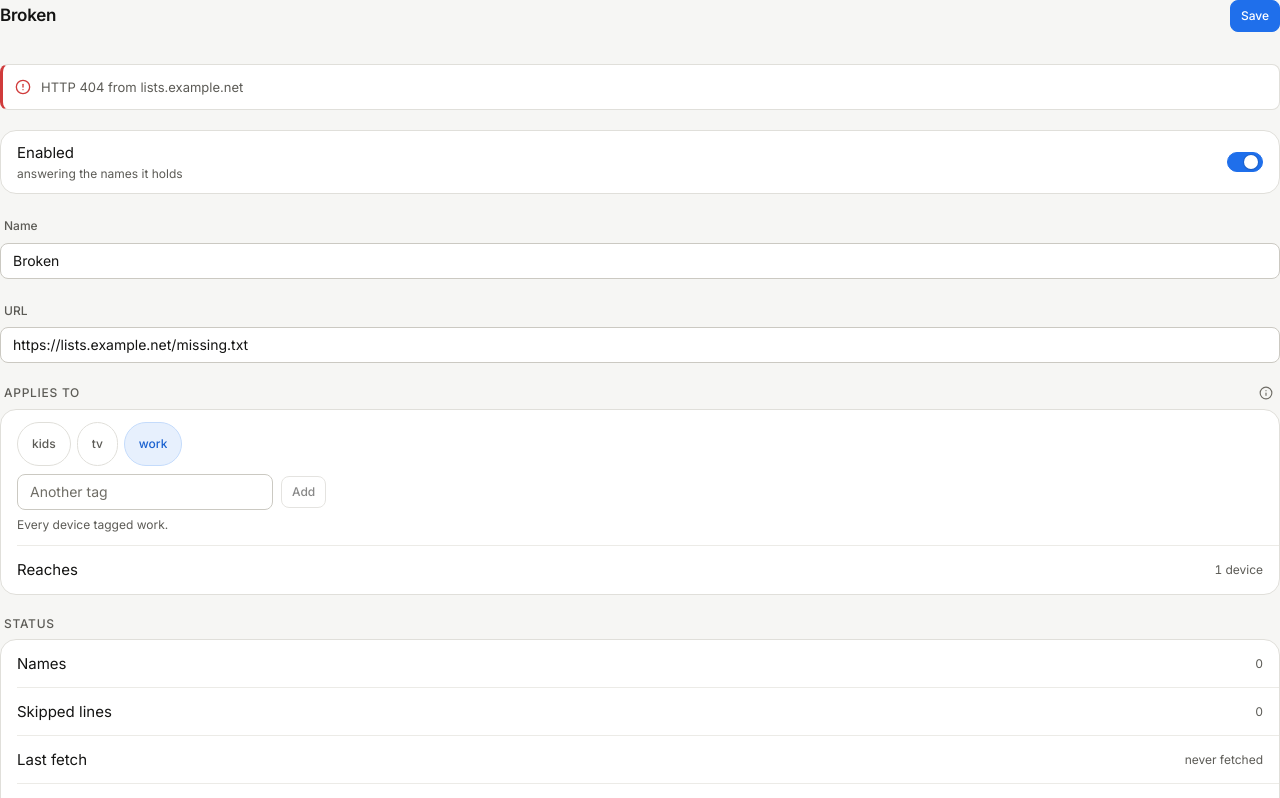
Hydra blocklists on a phone › reads the list every two seconds after a new URL until its fetch lands
Replace the text in the field labelled "URL" with "https://lists.example.net/moved.txt" at (640, 345), box [0,327,1279,363]
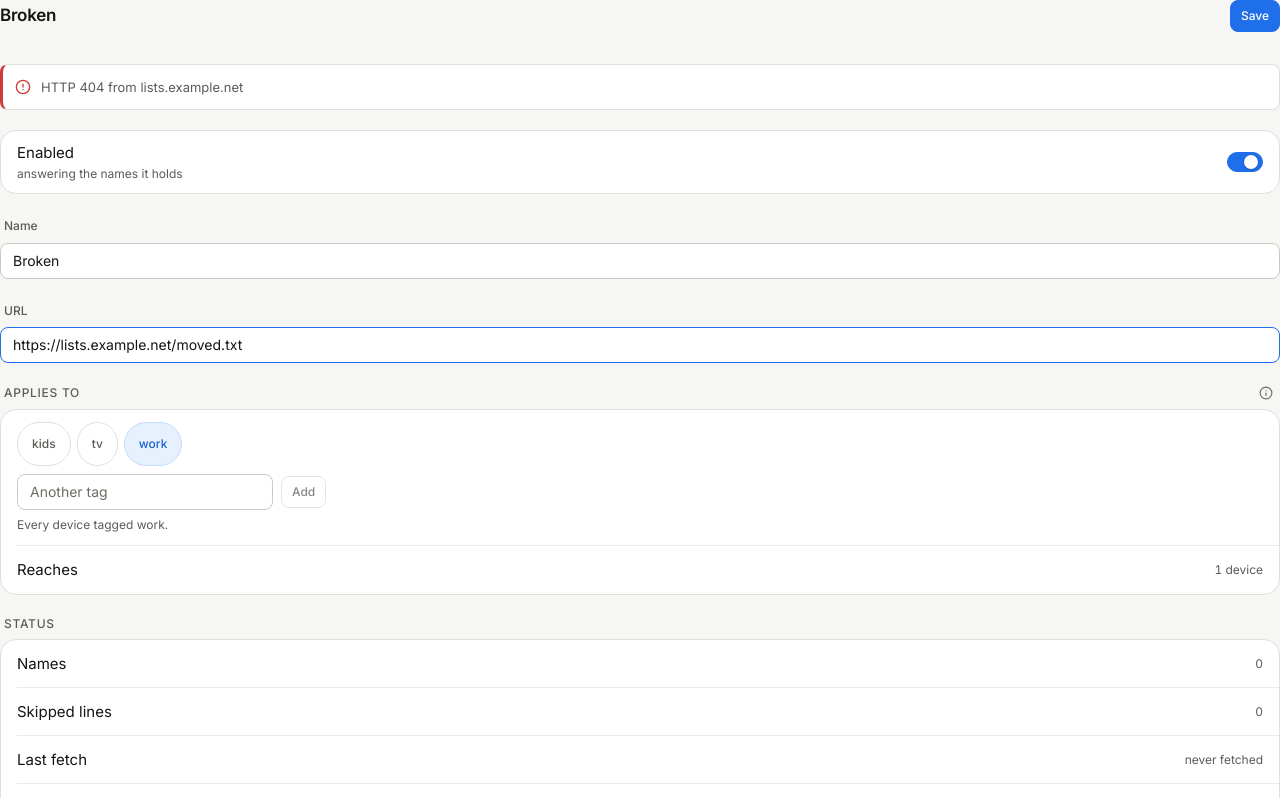
Click the button "Save" at (1255, 16), box [1230,0,1279,32]
Wait 10000 ms
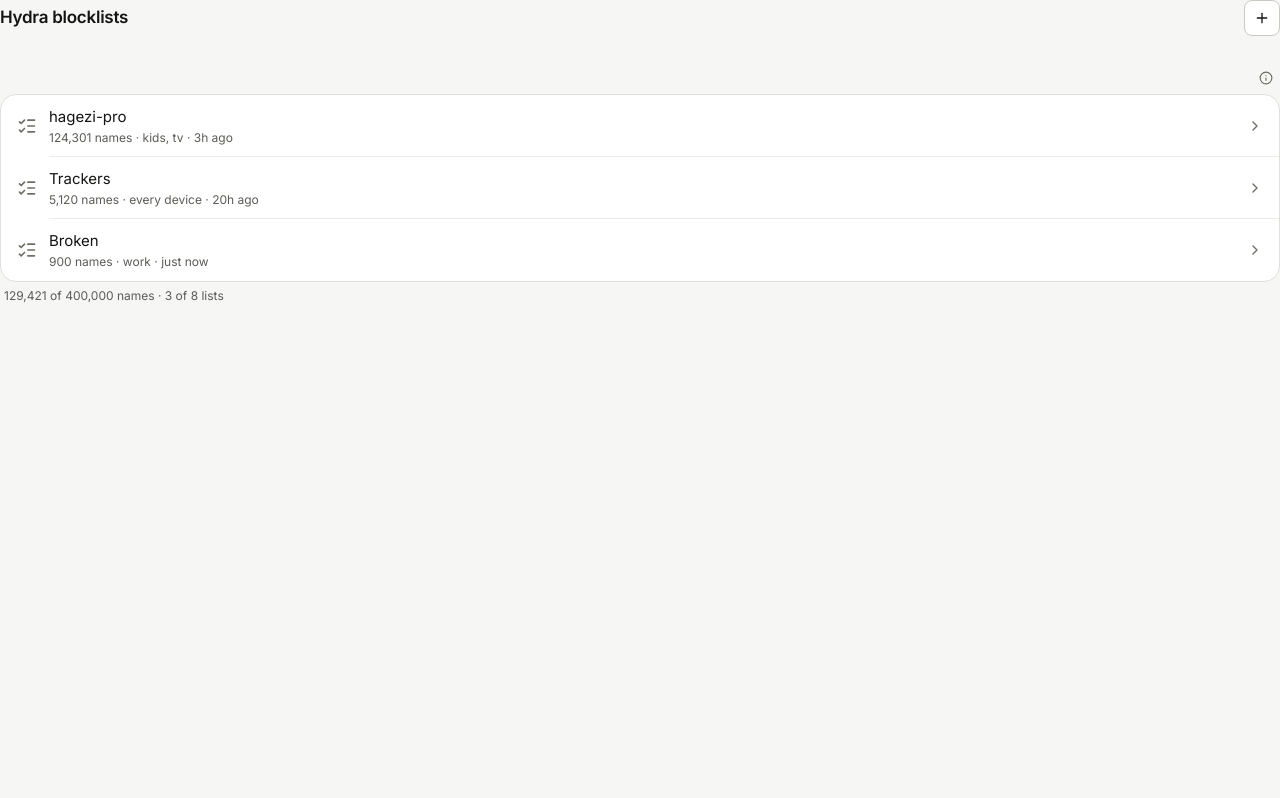
Expected: the text "HTTP 404 from lists.example.net" is gone
Expected: the text "900 names · work · just now" is shown, [49,254,209,269]
